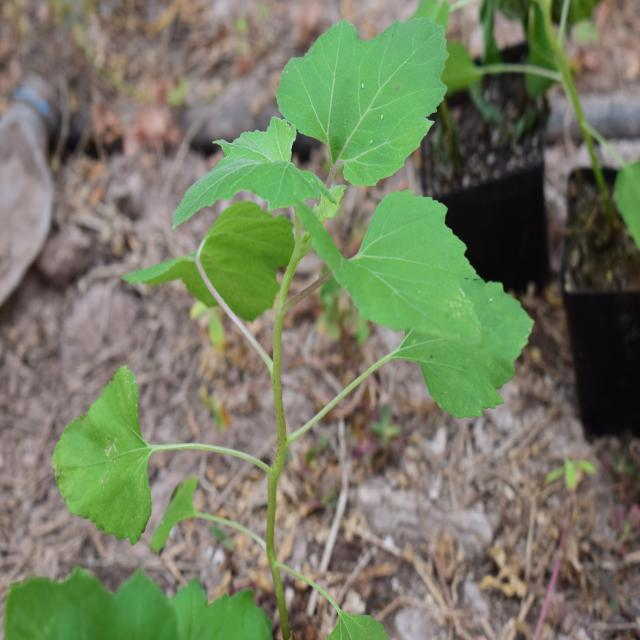cocklebur: (59, 32, 532, 478)
